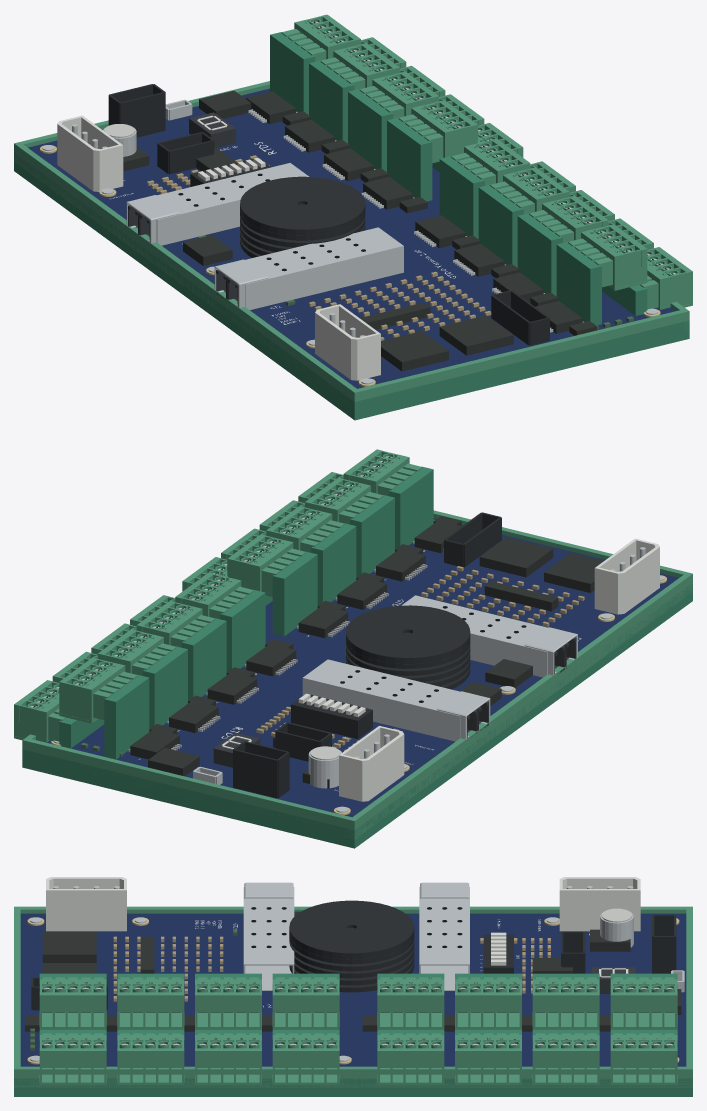
The model's file is gtdo-v2-2.00.glb.
3 renders of one model, top to bottom at view 1: azimuth 30°, elevation 25°; view 2: azimuth 150°, elevation 25°; view 3: azimuth 270°, elevation 25°, orthographic.
Visible parts, largest first — view 1: gtdo-v2-2.00.body, gtdo-v2-2.00.carrier, gtdo-v2-2.00.carrier_lip-0.056, gtdo-v2-2.00.heatsink_top, gtdo-v2-2.00.carrier_end-0.0995, gtdo-v2-2.00.optical_cage_2_side-1, gtdo-v2-2.00.power1.keyed_shroud, gtdo-v2-2.00.power2.keyed_shroud, gtdo-v2-2.00.optical_cage_2_z0.01605, gtdo-v2-2.00.bank8_odd.pcb_header, gtdo-v2-2.00.bank4_odd.pcb_header, gtdo-v2-2.00.optical_cage_1_z0.01605 (+32 smaller); view 2: gtdo-v2-2.00.body, gtdo-v2-2.00.carrier, gtdo-v2-2.00.carrier_lip-0.056, gtdo-v2-2.00.heatsink_top, gtdo-v2-2.00.carrier_end0.0995, gtdo-v2-2.00.power1.keyed_shroud, gtdo-v2-2.00.power2.keyed_shroud, gtdo-v2-2.00.optical_cage_1_side1, gtdo-v2-2.00.optical_cage_1_z0.01605, gtdo-v2-2.00.bank5_odd.pcb_header, gtdo-v2-2.00.bank1_odd.pcb_header, gtdo-v2-2.00.bank4_odd.pcb_header (+34 smaller); view 3: gtdo-v2-2.00.body, gtdo-v2-2.00.carrier, gtdo-v2-2.00.carrier_lip0.056, gtdo-v2-2.00.heatsink_top, gtdo-v2-2.00.power2.keyed_shroud, gtdo-v2-2.00.power1.keyed_shroud, gtdo-v2-2.00.optical_cage_1_z0.01605, gtdo-v2-2.00.optical_cage_2_z0.01605, gtdo-v2-2.00.carrier_lip-0.056, gtdo-v2-2.00.ic-0.028-0.084, gtdo-v2-2.00.bank7_odd.front_upper_band, gtdo-v2-2.00.bank8_odd.front_upper_band (+85 smaller).
Part boxes in pixels (left/top/right/bottom): gtdo-v2-2.00.body: left=28, top=88, right=675, bottom=388; gtdo-v2-2.00.carrier: left=14, top=153, right=689, bottom=420; gtdo-v2-2.00.carrier_lip-0.056: left=14, top=143, right=360, bottom=410; gtdo-v2-2.00.heatsink_top: left=240, top=176, right=365, bottom=235; gtdo-v2-2.00.carrier_end-0.0995: left=351, top=310, right=684, bottom=401; gtdo-v2-2.00.optical_cage_2_side-1: left=245, top=245, right=403, bottom=309; gtdo-v2-2.00.power1.keyed_shroud: left=57, top=115, right=123, bottom=191; gtdo-v2-2.00.power2.keyed_shroud: left=315, top=304, right=380, bottom=380; gtdo-v2-2.00.optical_cage_2_z0.01605: left=245, top=227, right=403, bottom=285; gtdo-v2-2.00.bank8_odd.pcb_header: left=556, top=241, right=601, bottom=325; gtdo-v2-2.00.bank4_odd.pcb_header: left=387, top=117, right=432, bottom=201; gtdo-v2-2.00.optical_cage_1_z0.01605: left=156, top=163, right=309, bottom=221; gtdo-v2-2.00.body: left=47, top=518, right=678, bottom=817; gtdo-v2-2.00.carrier: left=22, top=584, right=692, bottom=848; gtdo-v2-2.00.carrier_lip-0.056: left=349, top=572, right=692, bottom=838; gtdo-v2-2.00.heatsink_top: left=346, top=605, right=470, bottom=663; gtdo-v2-2.00.carrier_end0.0995: left=22, top=738, right=357, bottom=837; gtdo-v2-2.00.power1.keyed_shroud: left=339, top=725, right=404, bottom=801; gtdo-v2-2.00.power2.keyed_shroud: left=594, top=538, right=659, bottom=614; gtdo-v2-2.00.optical_cage_1_side1: left=302, top=677, right=460, bottom=741; gtdo-v2-2.00.optical_cage_1_z0.01605: left=303, top=660, right=459, bottom=717; gtdo-v2-2.00.bank5_odd.pcb_header: left=272, top=551, right=317, bottom=636; gtdo-v2-2.00.bank1_odd.pcb_header: left=104, top=675, right=149, bottom=759; gtdo-v2-2.00.bank4_odd.pcb_header: left=220, top=590, right=265, bottom=672; gtdo-v2-2.00.body: left=20, top=913, right=686, bottom=1066; gtdo-v2-2.00.carrier: left=14, top=1078, right=692, bottom=1096; gtdo-v2-2.00.carrier_lip0.056: left=14, top=1066, right=692, bottom=1087; gtdo-v2-2.00.heatsink_top: left=289, top=900, right=414, bottom=959; gtdo-v2-2.00.power2.keyed_shroud: left=46, top=877, right=126, bottom=931; gtdo-v2-2.00.power1.keyed_shroud: left=559, top=877, right=640, bottom=931; gtdo-v2-2.00.optical_cage_1_z0.01605: left=419, top=889, right=469, bottom=965; gtdo-v2-2.00.optical_cage_2_z0.01605: left=243, top=898, right=294, bottom=965; gtdo-v2-2.00.carrier_lip-0.056: left=14, top=906, right=692, bottom=913; gtdo-v2-2.00.ic-0.028-0.084: left=42, top=931, right=96, bottom=962; gtdo-v2-2.00.bank7_odd.front_upper_band: left=117, top=992, right=184, bottom=1012; gtdo-v2-2.00.bank8_odd.front_upper_band: left=39, top=992, right=106, bottom=1012.
Bounding box in the file's own units: 0.1196 × 0.0286 × 0.201.
